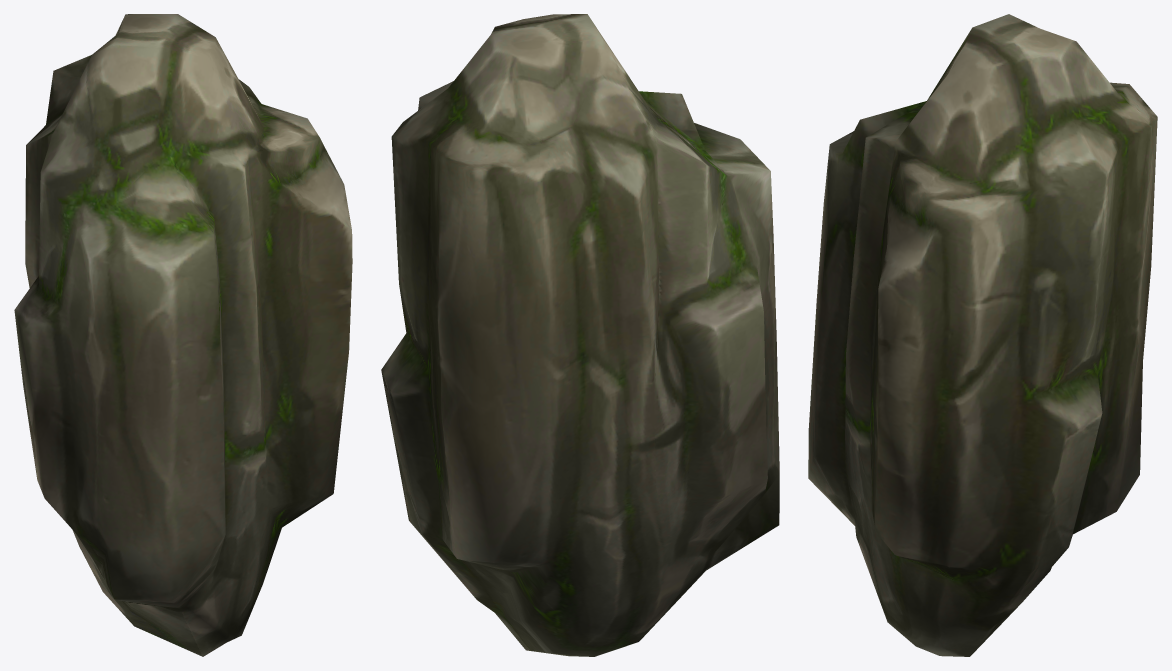
File: RockFormation_4_2 (43).fbx
3 renders of one model, left to right at view 1: azimuth 30°, elevation 25°; view 2: azimuth 150°, elevation 25°; view 3: azimuth 270°, elevation 25°, orthographic. The views are drawn at different scales.
Visible parts, largest first — view 1: RockFormation_4_2 (43); view 2: RockFormation_4_2 (43); view 3: RockFormation_4_2 (43).
Boxes of the visible parts, <box> form: RockFormation_4_2 (43): <box>14,14,352,656</box>; RockFormation_4_2 (43): <box>381,14,779,656</box>; RockFormation_4_2 (43): <box>808,14,1157,656</box>.
Size of the model in its own units: 97.24 by 179 by 92.78.
